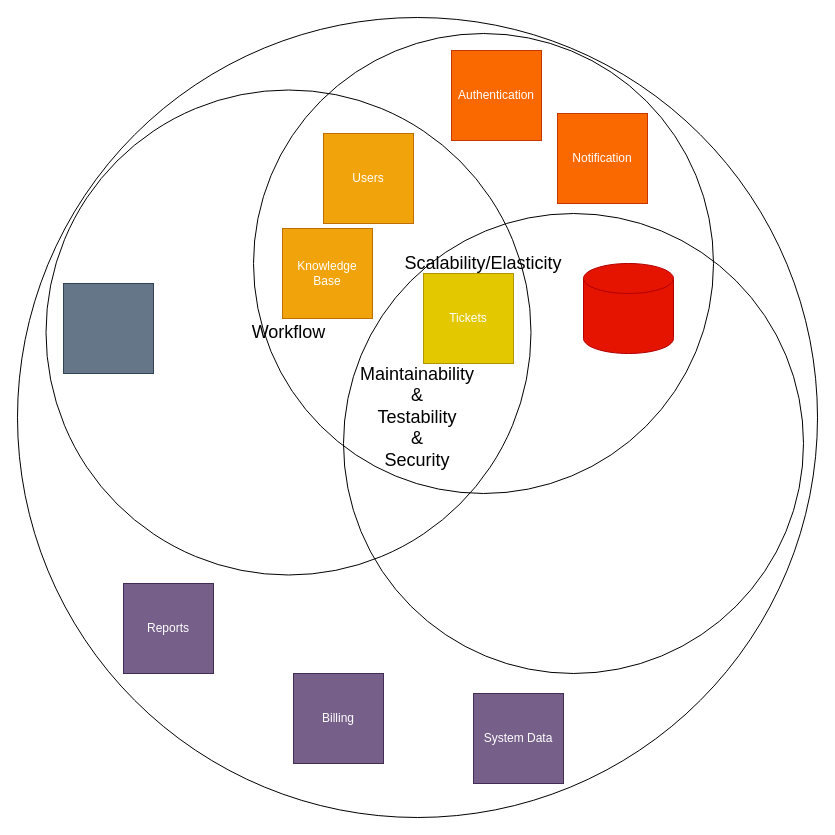
This 835x835 diagram has some shape labels left out. Here are the shapes that lost their labels. From the top down, the centre of each, then its label:
At [108,328]: "Feedback".
At [628,308]: "Data Store".
At [573,443]: "Availability & Reliability & Data Integrity".
